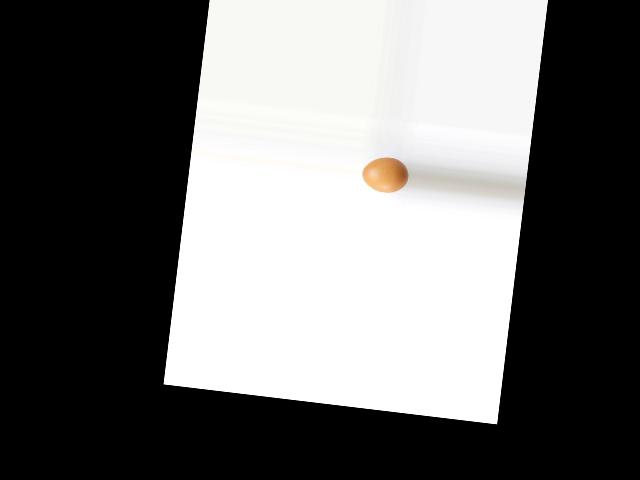egg: (360, 154, 410, 194)
